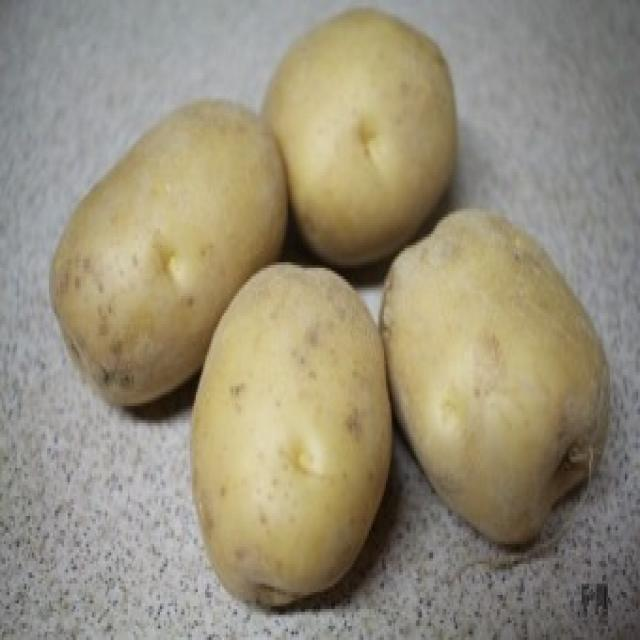potato: (374, 195, 609, 546), (47, 92, 304, 409), (188, 260, 398, 612), (263, 5, 462, 268)
